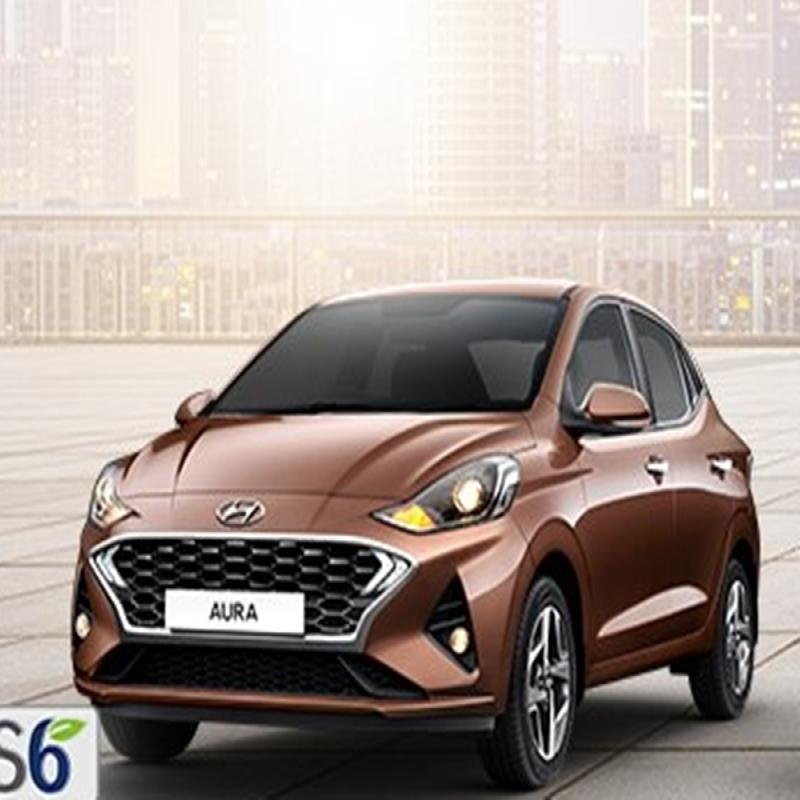car: (60, 276, 753, 764)
